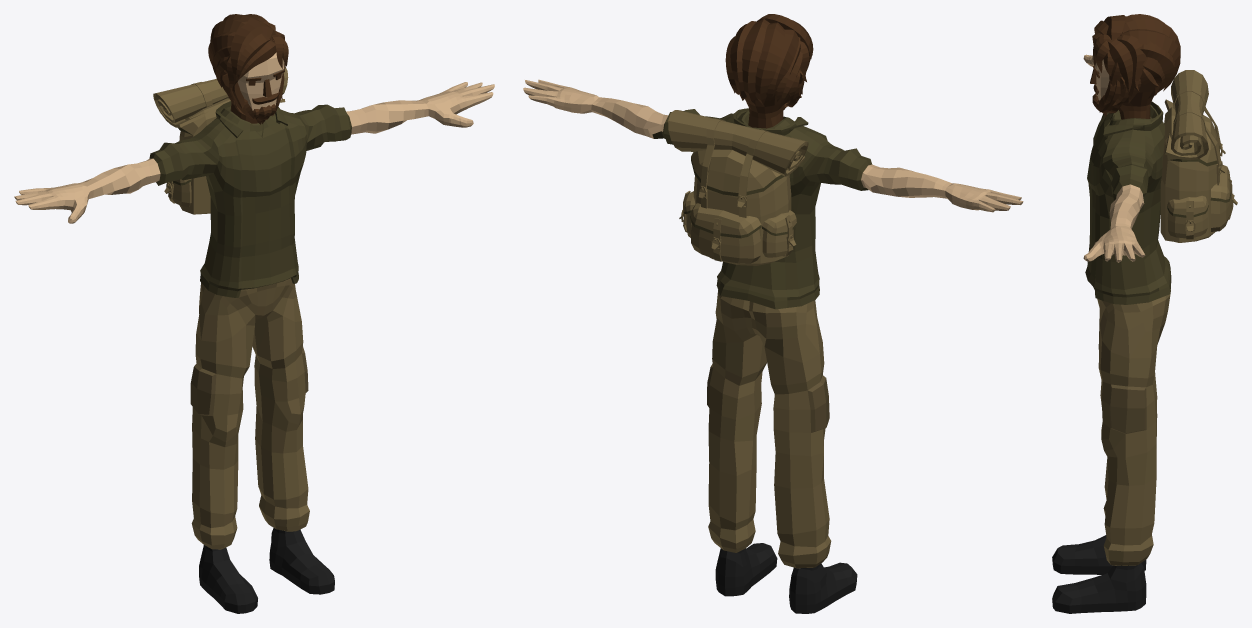
The model's file is character2.fbx.
The picture shows the model from 3 angles, left to right: view 1: azimuth 30°, elevation 25°; view 2: azimuth 150°, elevation 25°; view 3: azimuth 270°, elevation 25°; orthographic projection. The views are drawn at different scales.
Visible parts, largest first — view 1: Adventurer_Body, Adventurer_Legs, Adventurer_Head, Adventurer_Feet, Backpack; view 2: Adventurer_Legs, Adventurer_Body, Backpack, Adventurer_Head, Adventurer_Feet; view 3: Adventurer_Legs, Adventurer_Body, Backpack, Adventurer_Head, Adventurer_Feet.
Boxes of the visible parts, bbox=[...] form: Adventurer_Body: bbox=[14, 82, 494, 297]; Adventurer_Legs: bbox=[190, 278, 309, 549]; Adventurer_Head: bbox=[208, 14, 288, 124]; Adventurer_Feet: bbox=[199, 528, 334, 613]; Backpack: bbox=[153, 67, 288, 214]; Adventurer_Legs: bbox=[707, 290, 831, 568]; Adventurer_Body: bbox=[523, 79, 1023, 309]; Backpack: bbox=[668, 110, 808, 265]; Adventurer_Head: bbox=[725, 14, 813, 128]; Adventurer_Feet: bbox=[715, 543, 857, 613]; Adventurer_Legs: bbox=[1097, 289, 1170, 565]; Adventurer_Body: bbox=[1083, 54, 1171, 304]; Backpack: bbox=[1160, 70, 1237, 242]; Adventurer_Head: bbox=[1090, 14, 1180, 119]; Adventurer_Feet: bbox=[1052, 535, 1146, 613].
Bounding box in the file's own units: 168 × 186 × 54.97.
